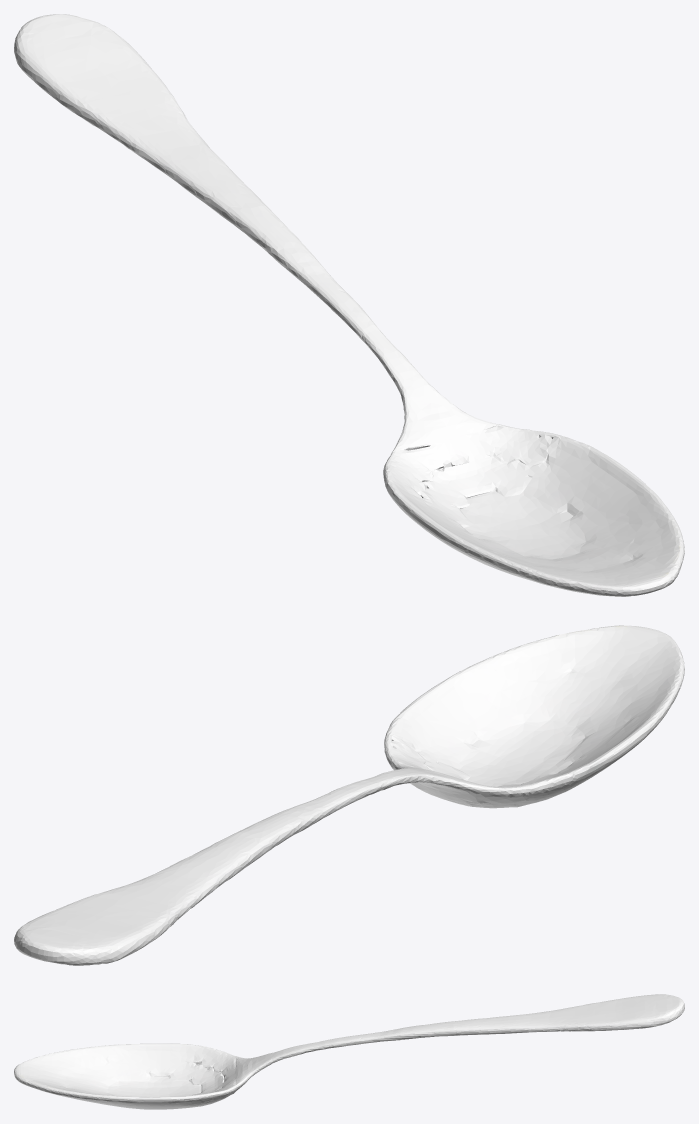
File: 1950s_spoon_middle_c_0401231412_texture.fbx
3 renders of one model, top to bottom at view 1: azimuth 30°, elevation 25°; view 2: azimuth 150°, elevation 25°; view 3: azimuth 270°, elevation 25°, orthographic. The views are drawn at different scales.
Visible parts, largest first — view 1: temp; view 2: temp; view 3: temp.
Part boxes in pixels (bbox=[...]): temp: bbox=[14, 14, 684, 596]; temp: bbox=[14, 625, 684, 965]; temp: bbox=[14, 994, 684, 1109].
Bounding box in the file's own units: 38.96 × 33.62 × 200.
Materials: 1 (1 with a texture image).
